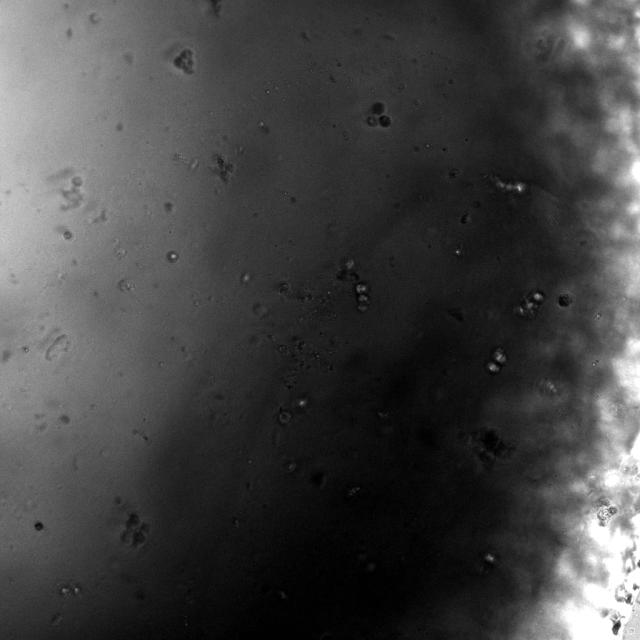organoid: (465, 428, 515, 466), (338, 258, 369, 310), (121, 512, 149, 547), (484, 174, 526, 194), (516, 290, 545, 317), (365, 101, 392, 127), (483, 347, 507, 375), (595, 498, 618, 527), (173, 49, 194, 74), (216, 154, 234, 183), (558, 293, 572, 307), (278, 411, 291, 425), (166, 250, 178, 262), (62, 230, 72, 239), (34, 522, 44, 530)
